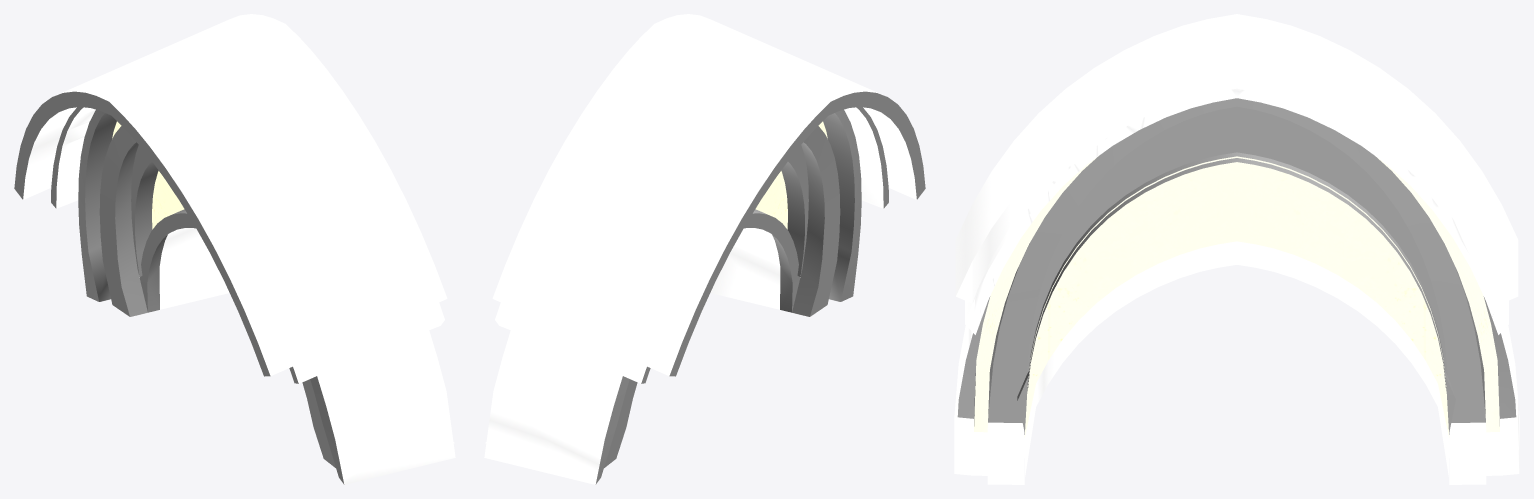
The model's file is SM_Arc_03.fbx.
The picture shows the model from 3 angles, left to right: view 1: azimuth 30°, elevation 25°; view 2: azimuth 150°, elevation 25°; view 3: azimuth 270°, elevation 25°; orthographic projection. The views are drawn at different scales.
Visible parts, largest first — view 1: SM_Arc_03_LOD0; view 2: SM_Arc_03_LOD0; view 3: SM_Arc_03_LOD0.
Part boxes in pixels (left/top/right/bottom): SM_Arc_03_LOD0: left=14, top=14, right=455, bottom=484; SM_Arc_03_LOD0: left=484, top=14, right=925, bottom=484; SM_Arc_03_LOD0: left=954, top=14, right=1519, bottom=484.
Size of the model in its own units: 166 by 318 by 238.
